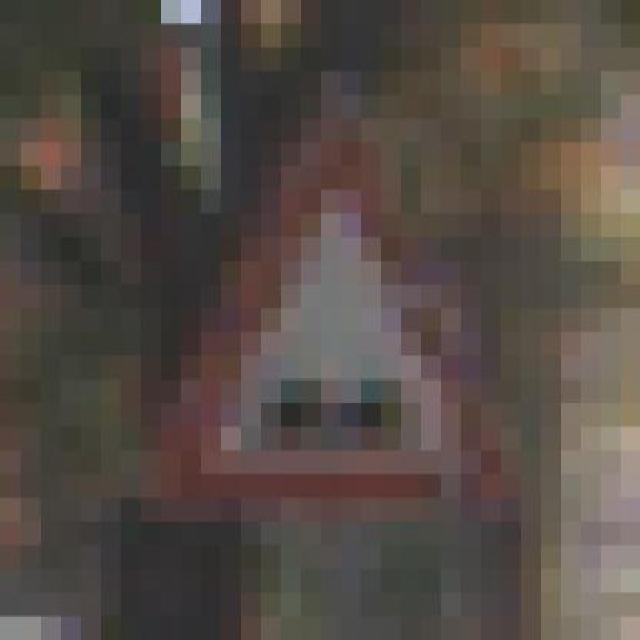Uneven Road: (140, 119, 500, 522)
